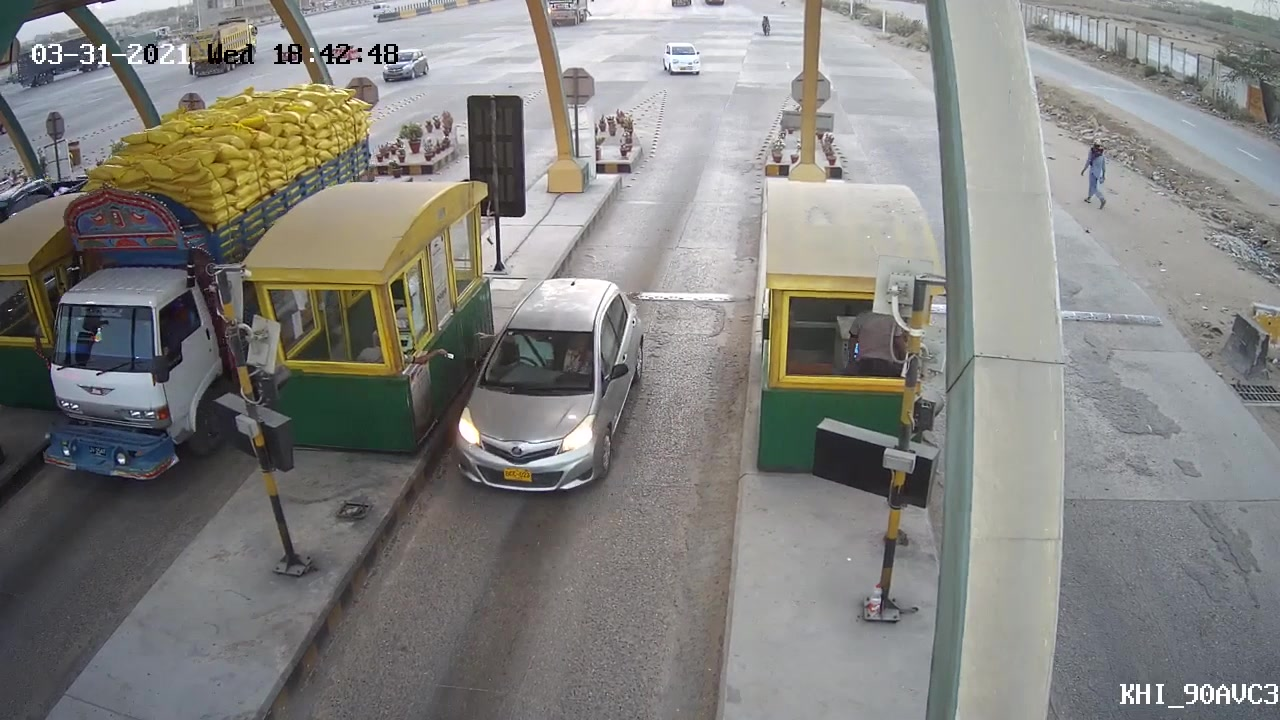F1: (450, 276, 653, 493)
